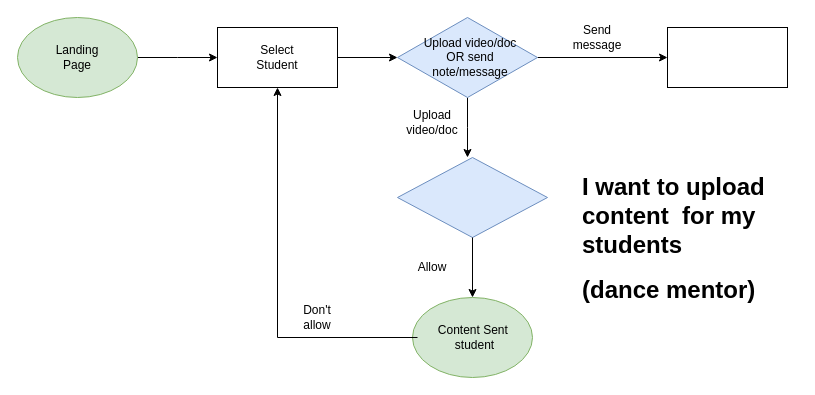
This 815x395 diagram has some shape labels left out. Each missing label, with the box of its shape:
Allow access to photos/camera: (396, 156, 548, 238)
Message sent: (666, 26, 788, 88)
